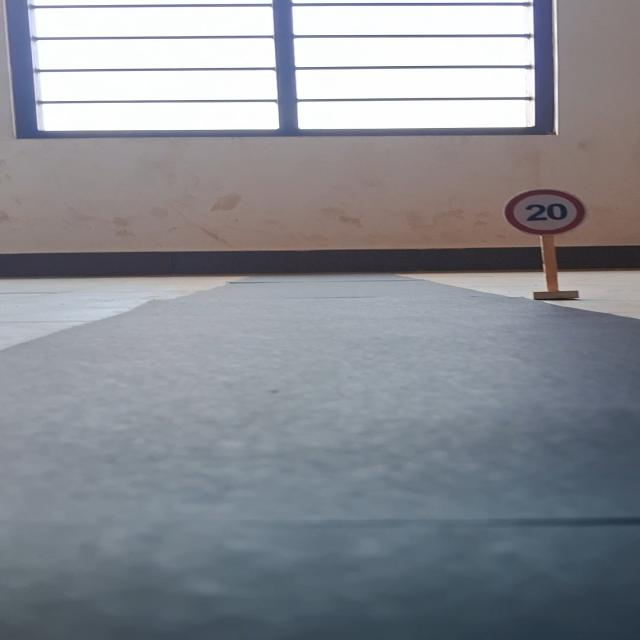Speed20: (500, 186, 592, 236)
